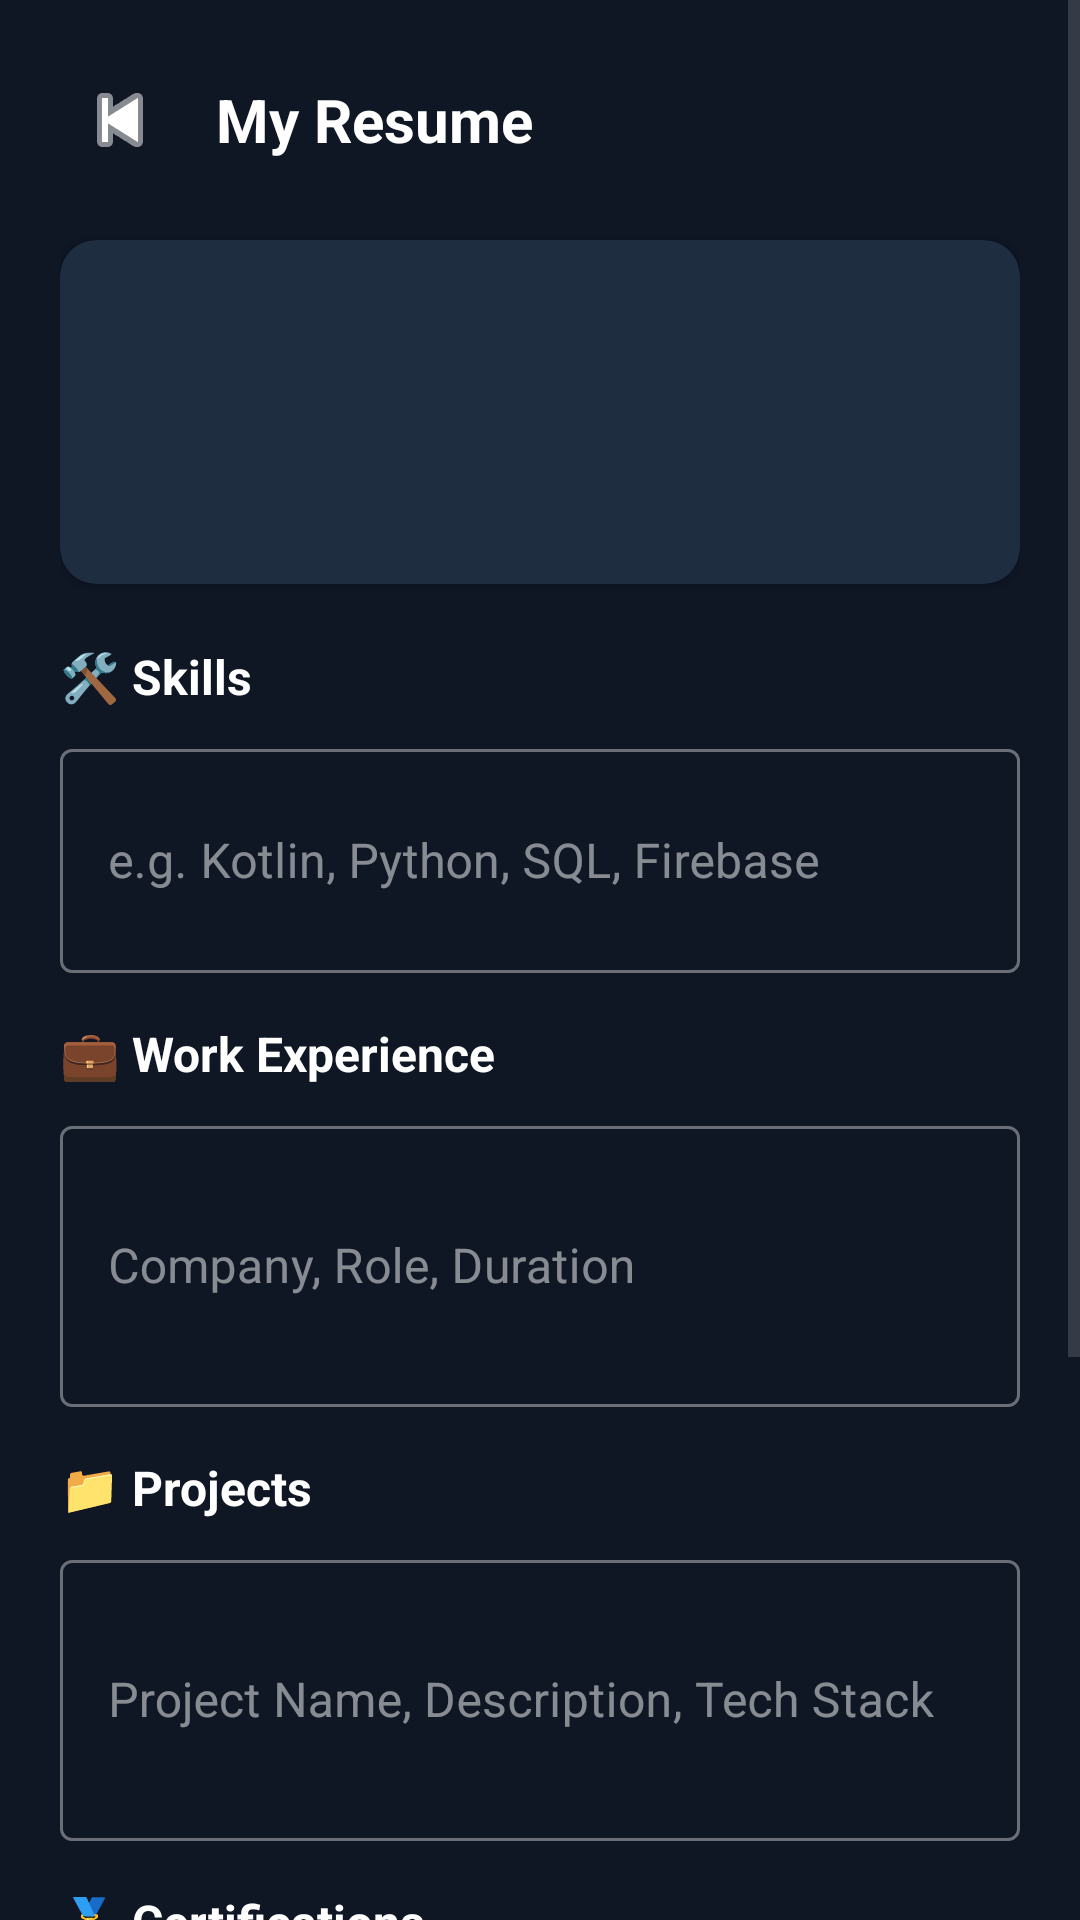

Where icons sit on this 1080 x 1920 app screen, as (left=x1, top=y1, right=x2, bottom=y2):
Back: (left=97, top=93, right=143, bottom=147)
